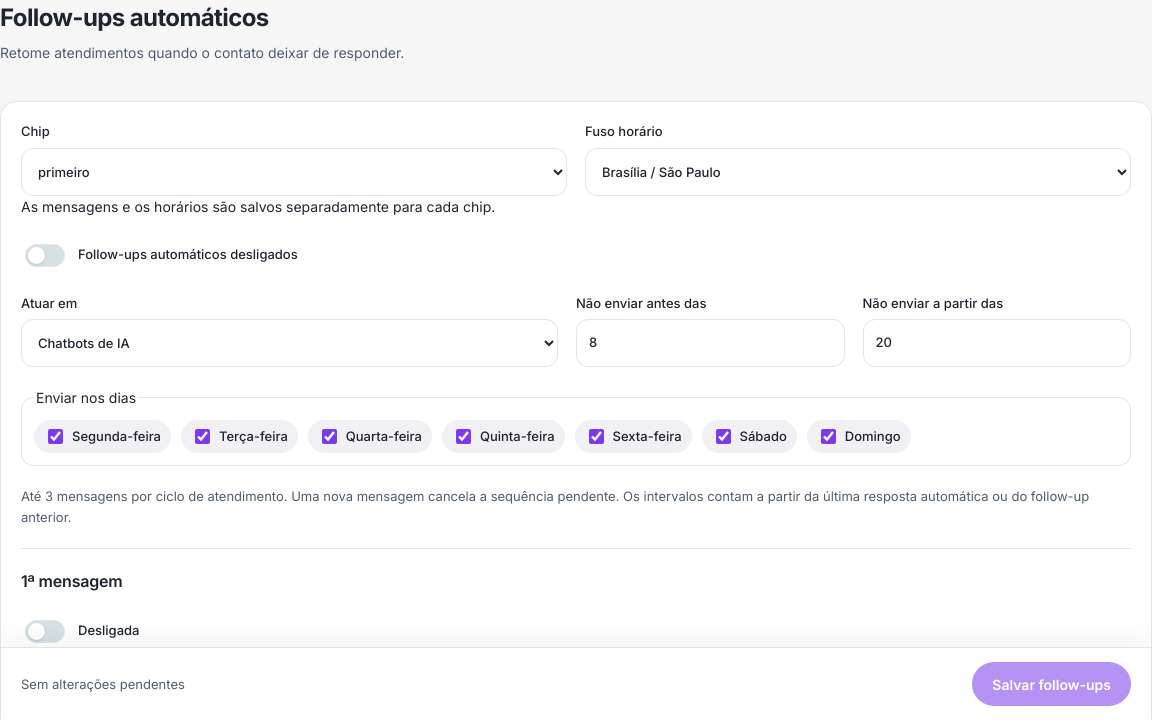
Test: troca de chip consulta configuração separada e protege alterações pendentes
Select "segundo" in the dropdown labelled "Chip": (294, 172) [21,148,567,196]
(page scrolled)
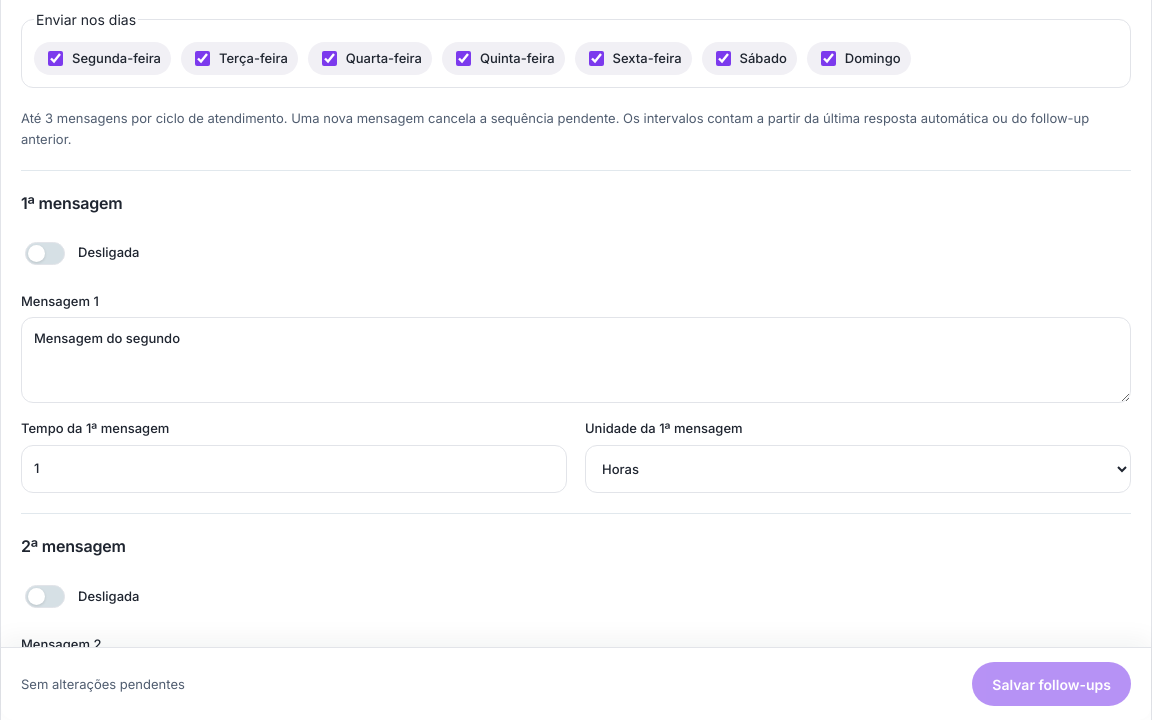
expect the text box labelled "Mensagem 1" holds "Mensagem do segundo": met
Replace the text in the text box labelled "Mensagem 1" with "Rascunho do segundo": (576, 360) [21,317,1131,403]
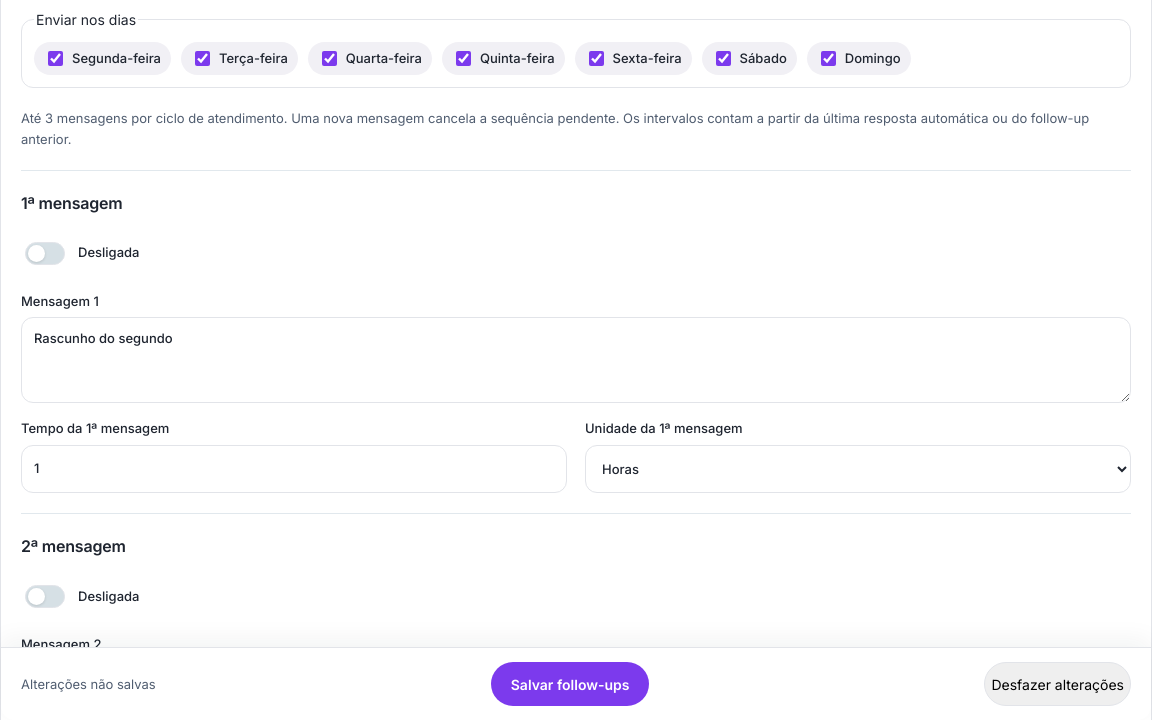
Click the button "Desfazer alterações": (1058, 684) [984,662,1131,706]
(page scrolled)
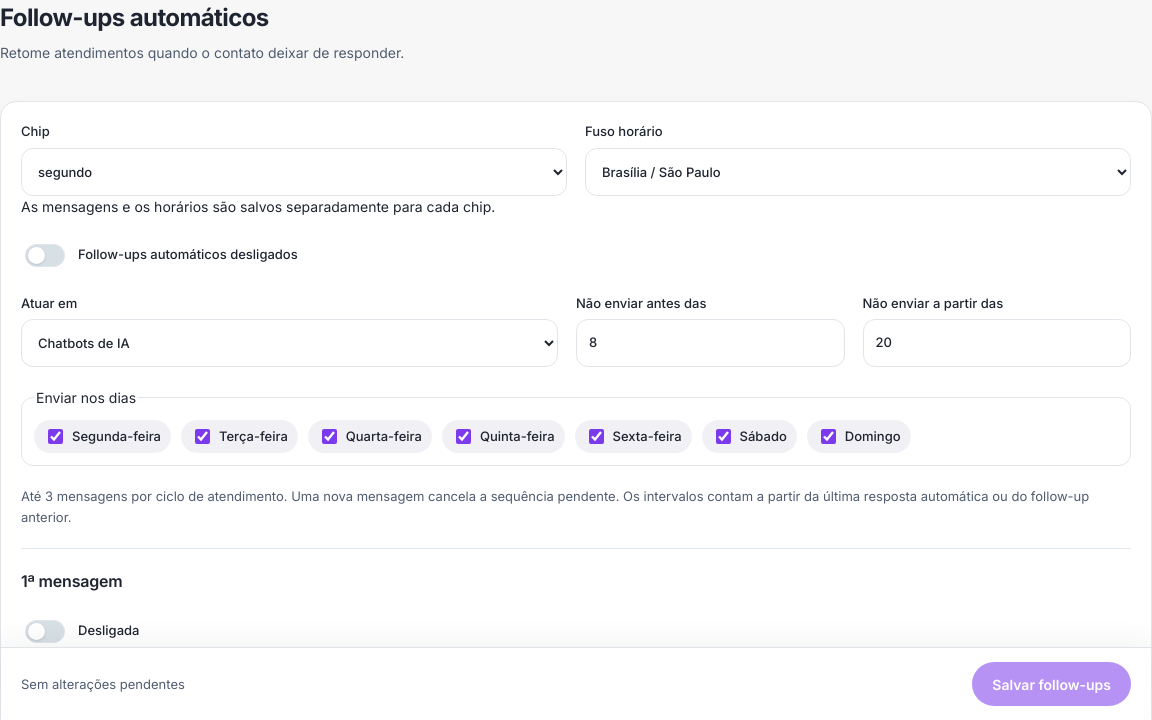
expect the dropdown labelled "Chip" is enabled: met
Select "primeiro" in the dropdown labelled "Chip": (294, 172) [21,148,567,196]
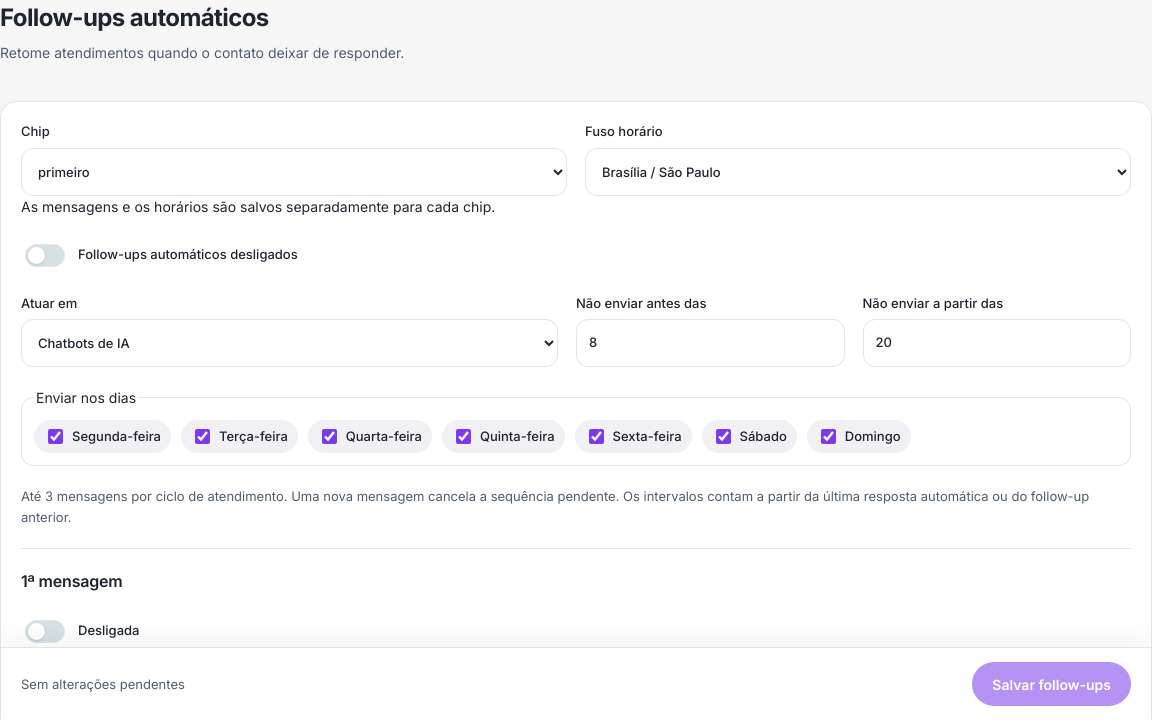
Select "levaelava" in the dropdown labelled "Chip": (294, 172) [21,148,567,196]
(page scrolled)
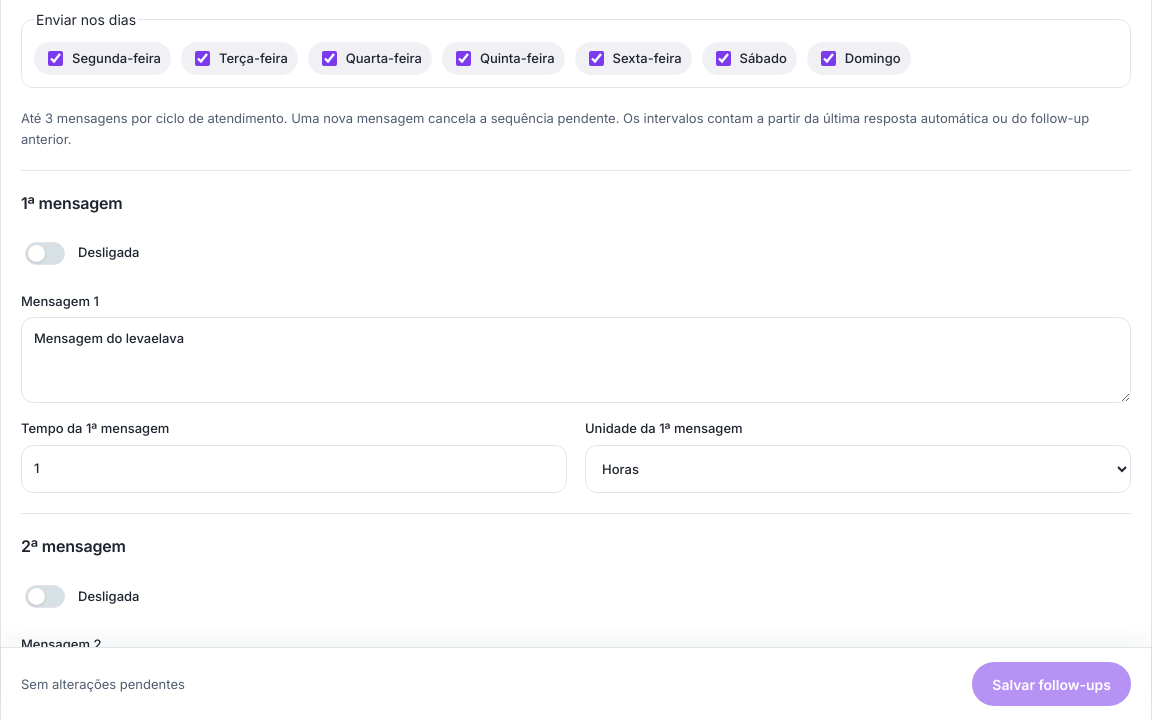
expect the text box labelled "Mensagem 1" holds "Mensagem do levaelava": met, box [21,317,1131,403]
